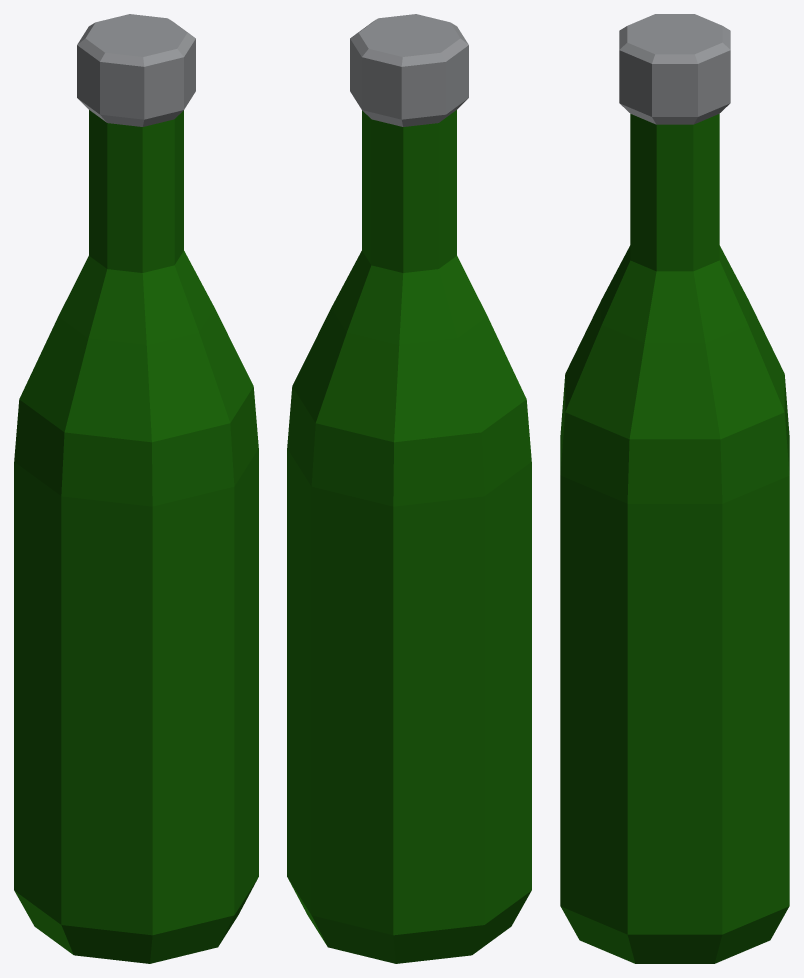
Rendered from SM_Clutter_Bottle_Green_01.glb.
3 renders of one model, left to right at view 1: azimuth 30°, elevation 25°; view 2: azimuth 150°, elevation 25°; view 3: azimuth 270°, elevation 25°, orthographic.
Visible parts, largest first — view 1: SM_Clutter_Bottle_Green_01; view 2: SM_Clutter_Bottle_Green_01; view 3: SM_Clutter_Bottle_Green_01.
Part boxes in pixels (left/top/right/bottom): SM_Clutter_Bottle_Green_01: left=14, top=14, right=258, bottom=963; SM_Clutter_Bottle_Green_01: left=287, top=14, right=531, bottom=963; SM_Clutter_Bottle_Green_01: left=560, top=14, right=789, bottom=963.
Size of the model in its own units: 0.0665 by 0.285 by 0.0665.
Materials: 1 (1 with a texture image).
